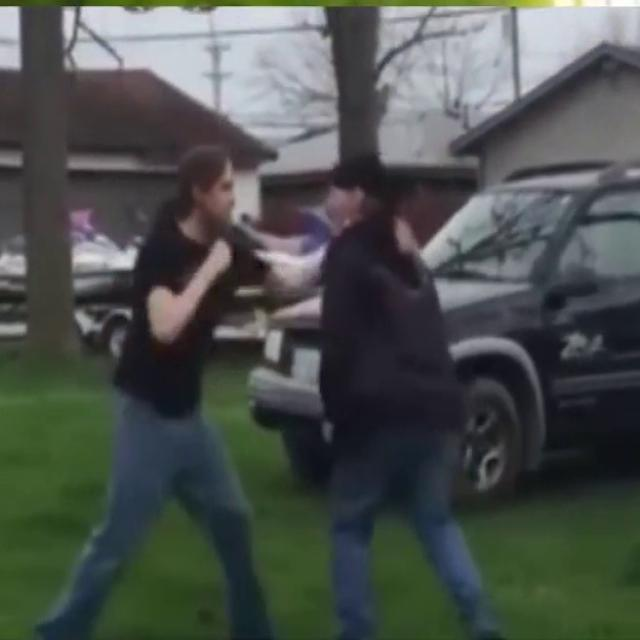Violence: (118, 149, 470, 585)
